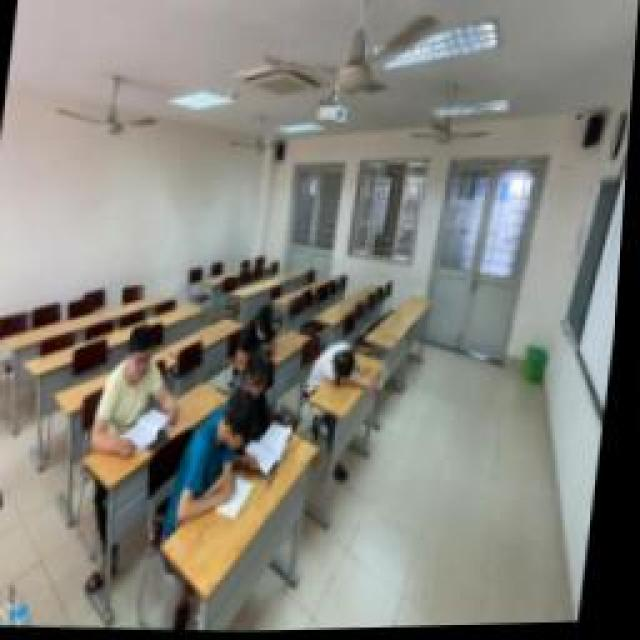sleep: (315, 342, 385, 392)
study: (95, 328, 193, 460), (185, 388, 267, 518), (230, 360, 302, 475), (240, 302, 285, 368)
